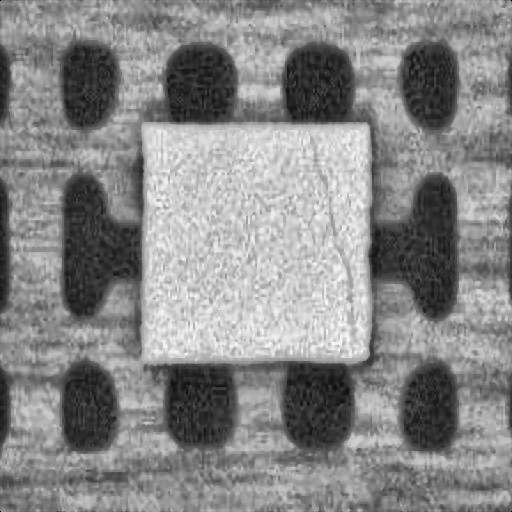DIE_CRACK: (305, 125, 356, 345)
